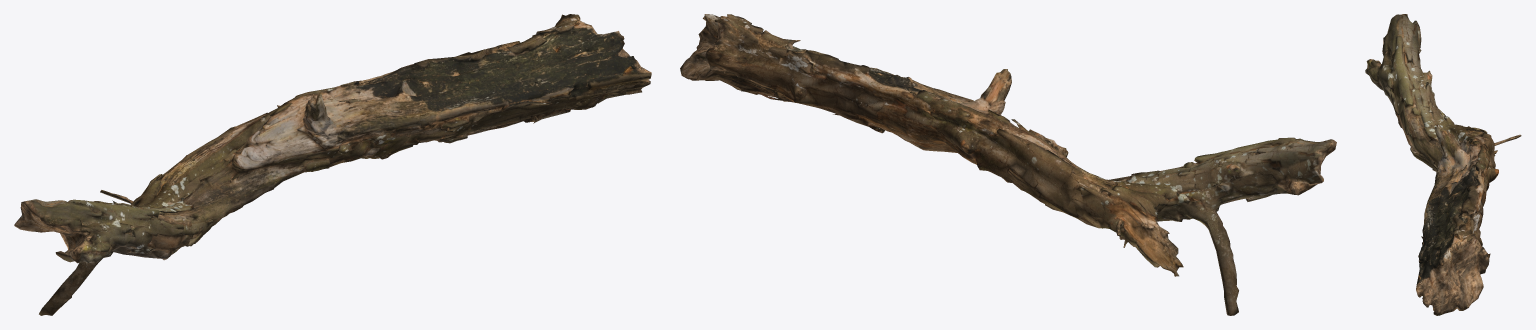
The model's file is dead_tree_trunk_02.glb.
3 renders of one model, left to right at view 1: azimuth 30°, elevation 25°; view 2: azimuth 150°, elevation 25°; view 3: azimuth 270°, elevation 25°, orthographic. The views are drawn at different scales.
Parts seen in each view (by area): view 1: dead_tree_trunk_02; view 2: dead_tree_trunk_02; view 3: dead_tree_trunk_02.
Boxes of the visible parts, x1,y1,x2,y2 form: dead_tree_trunk_02: (14,14,651,315); dead_tree_trunk_02: (680,14,1336,315); dead_tree_trunk_02: (1365,14,1521,315).
Size of the model in its own units: 4.05 by 1.05 by 1.05.
Materials: 1 (1 with a texture image).
